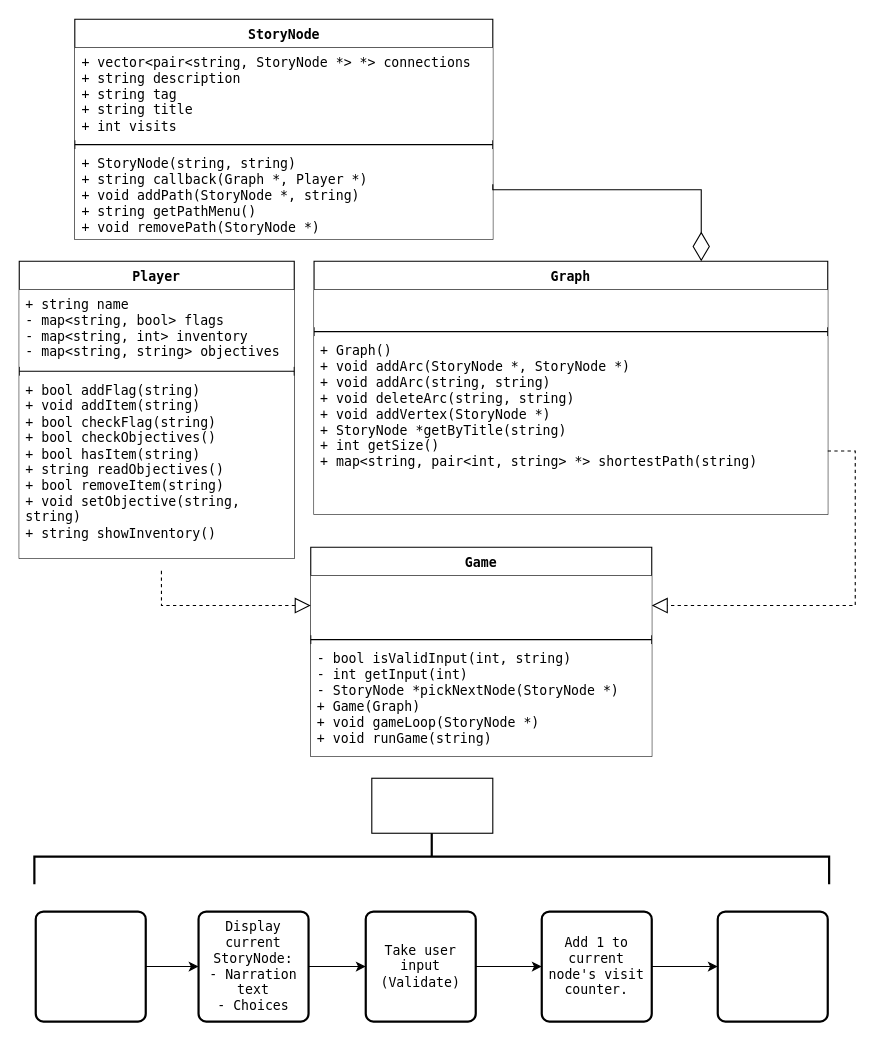
Image size: 890x1042. Some labels were removed from this diagram. The centre of each missing label's shape, as x and y in pixels:
"- int size - map<string, StoryNode *> vertices" goes at (570,308).
"- Player player - Graph *graph + string textPartition" goes at (480,605).
"gameLoop()" goes at (432,805).
"Pick the next, overwrite current." goes at (772,966).
"Run current node's callback." goes at (90,966).
